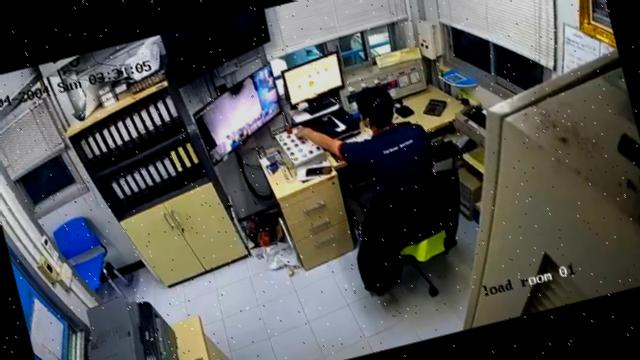Head: (356, 87, 395, 130)
People: (297, 87, 435, 192)
Phone: (305, 166, 332, 177)
